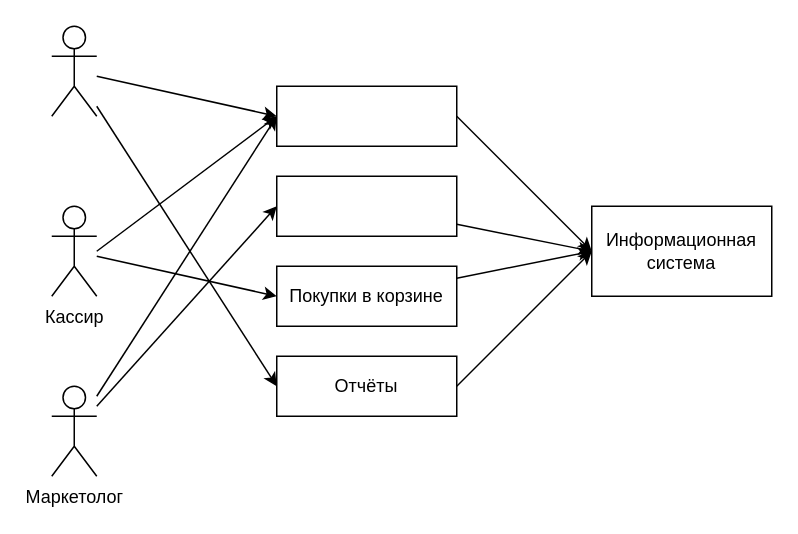
Some shapes in this 798 by 534 pixel diagram are drawn without their labels. The centre of each missing label's shape, as x and y in pixels:
Авторизация: the point at 366,115
Директор: the point at 73,70
Запросы: the point at 366,205
